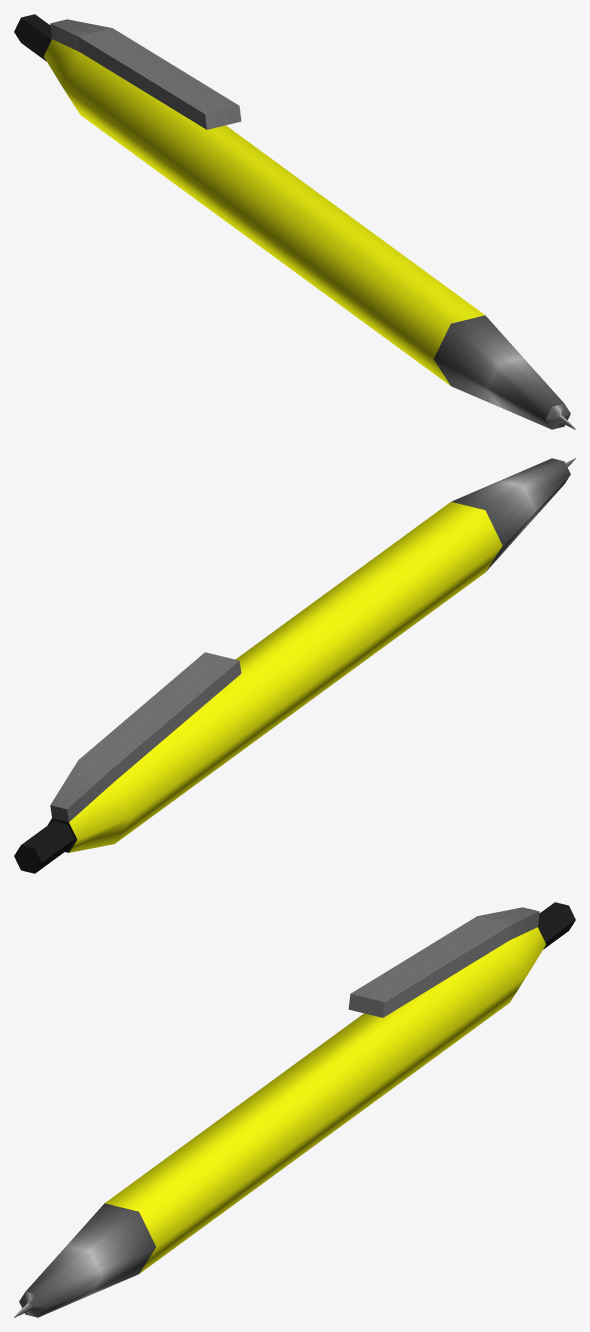
File: Pen_E.FBX
The picture shows the model from 3 angles, top to bottom: view 1: azimuth 30°, elevation 25°; view 2: azimuth 150°, elevation 25°; view 3: azimuth 330°, elevation 25°; orthographic projection.
Visible parts, largest first — view 1: Pen; view 2: Pen; view 3: Pen.
Part boxes in pixels (<box>): Pen: <box>14,14,575,429</box>; Pen: <box>14,458,575,873</box>; Pen: <box>14,902,575,1317</box>.
Bounding box in the file's own units: 4 × 5.1 × 55.01.
